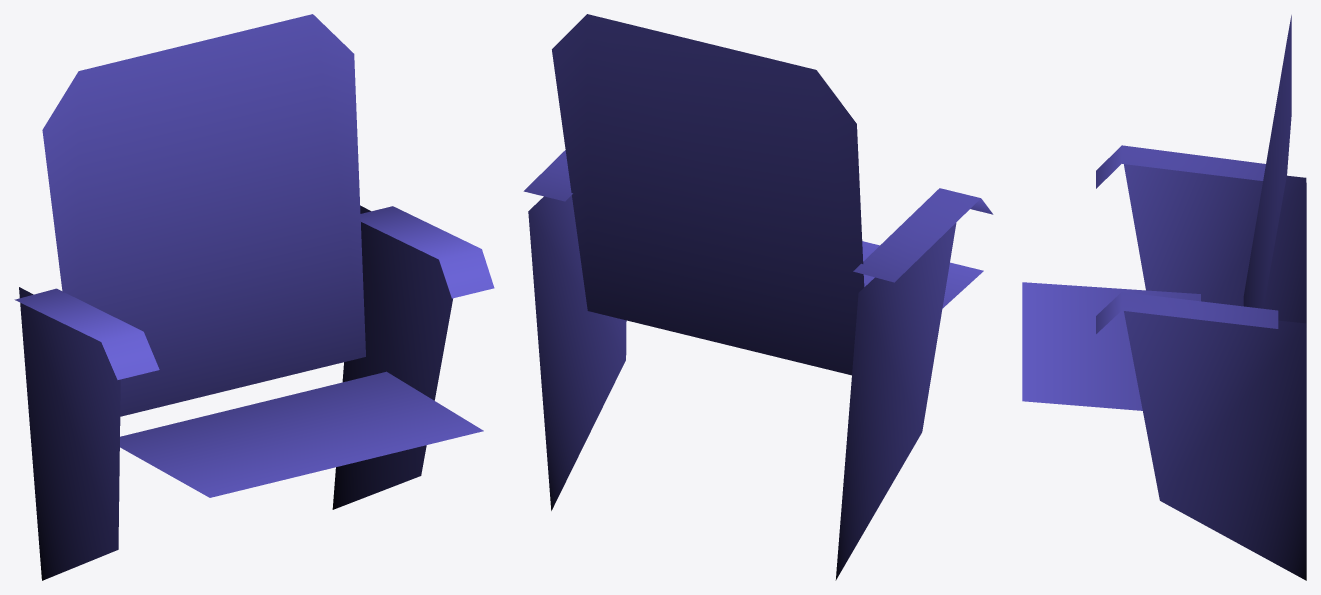
The model's file is Seat_Low.fbx.
3 views of the same model, side by side, from view 1: azimuth 30°, elevation 25°; view 2: azimuth 150°, elevation 25°; view 3: azimuth 270°, elevation 25° (orthographic). The views are drawn at different scales.
Visible parts, largest first — view 1: Seat_Low; view 2: Seat_Low; view 3: Seat_Low.
Boxes of the visible parts, x1=… form: Seat_Low: x1=14, y1=14, x2=494, y2=580; Seat_Low: x1=523, y1=14, x2=993, y2=580; Seat_Low: x1=1022, y1=15, x2=1306, y2=580.
Bounding box in the file's own units: 375 × 480 × 273.
